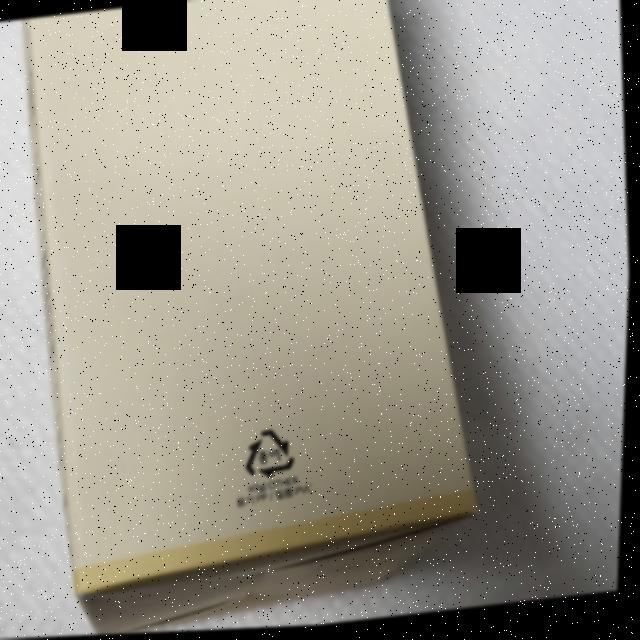Paper: (243, 426, 301, 484)
